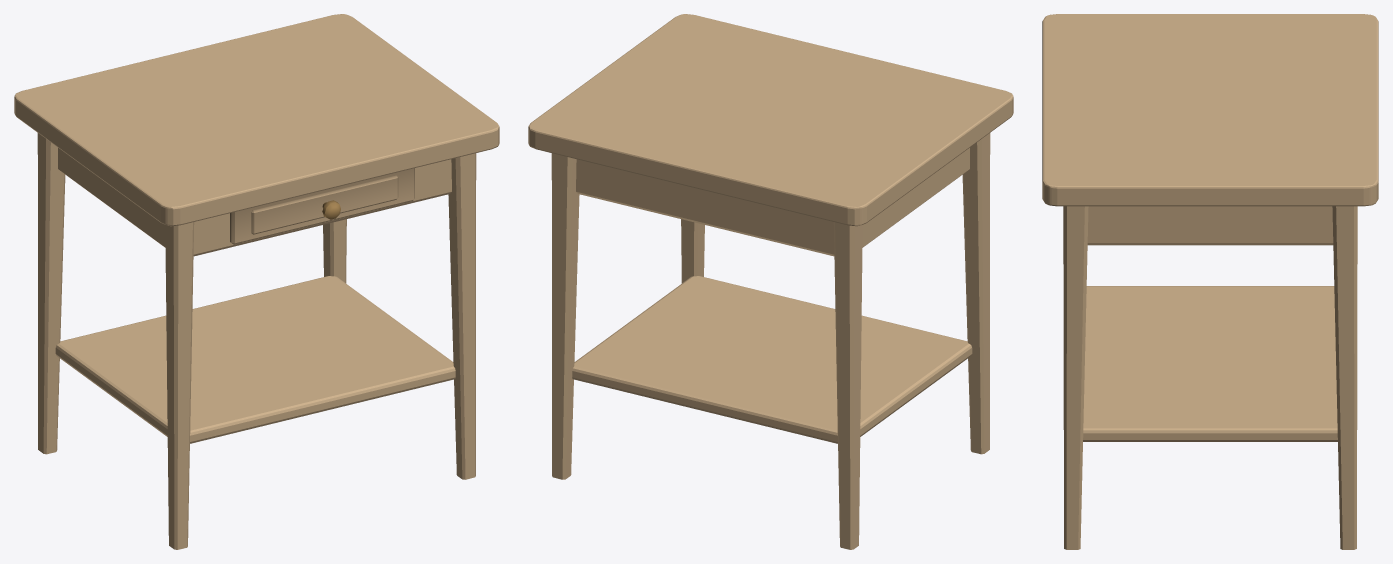
File: sideTable.glb
The picture shows the model from 3 angles, left to right: view 1: azimuth 30°, elevation 25°; view 2: azimuth 150°, elevation 25°; view 3: azimuth 270°, elevation 25°; orthographic projection. The views are drawn at different scales.
Visible parts, largest first — view 1: sideTable; view 2: sideTable; view 3: sideTable.
Part boxes in pixels (x1,y1,x2,y2): sideTable: (14,14,499,549); sideTable: (528,14,1013,549); sideTable: (1042,14,1378,549).
Size of the model in its own units: 0.55 by 0.5502 by 0.45.
